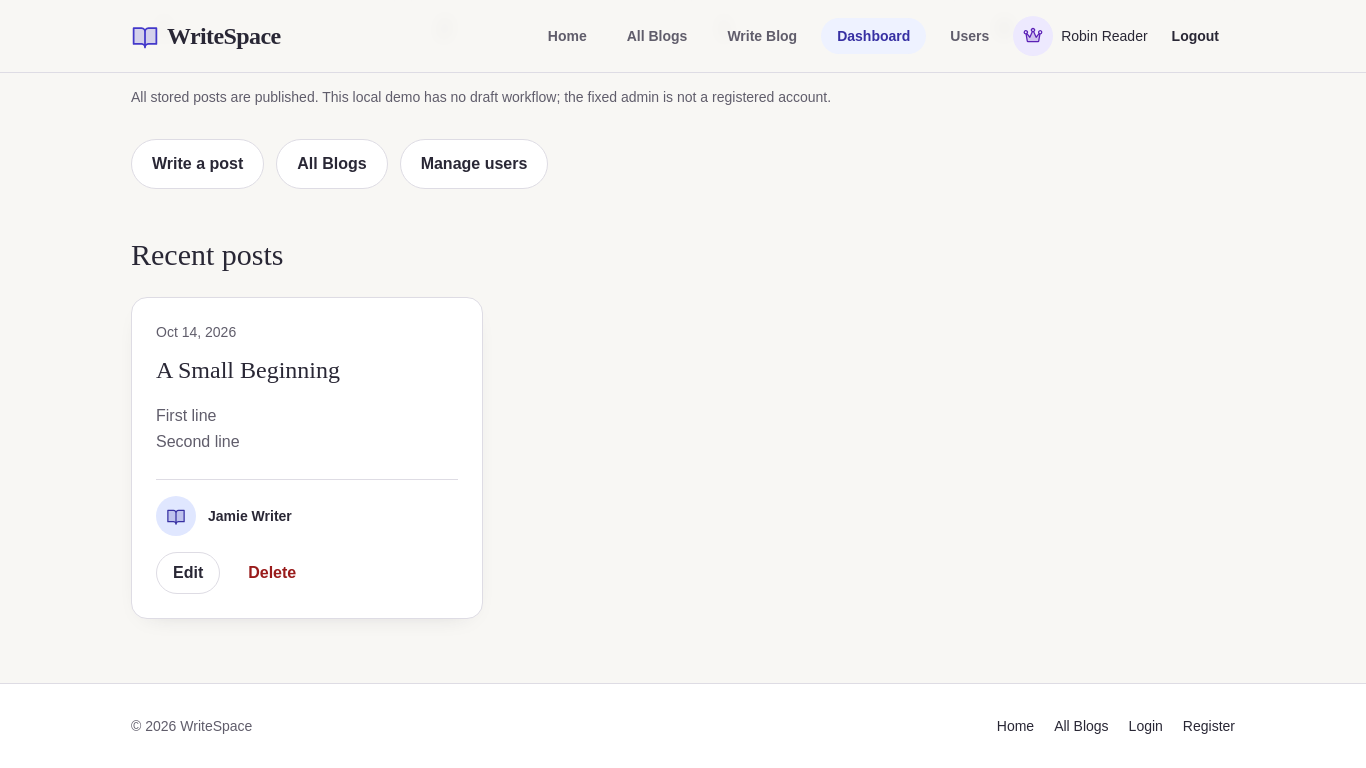
it: dashboard deletion and admin boundaries via App › denies a fresh unreadable registered admin identity without discarding the post snapshot
This screenshot has width=1366, height=768.
(page scrolled)
Click the button "Delete": (272, 573) [232,552,312,594]
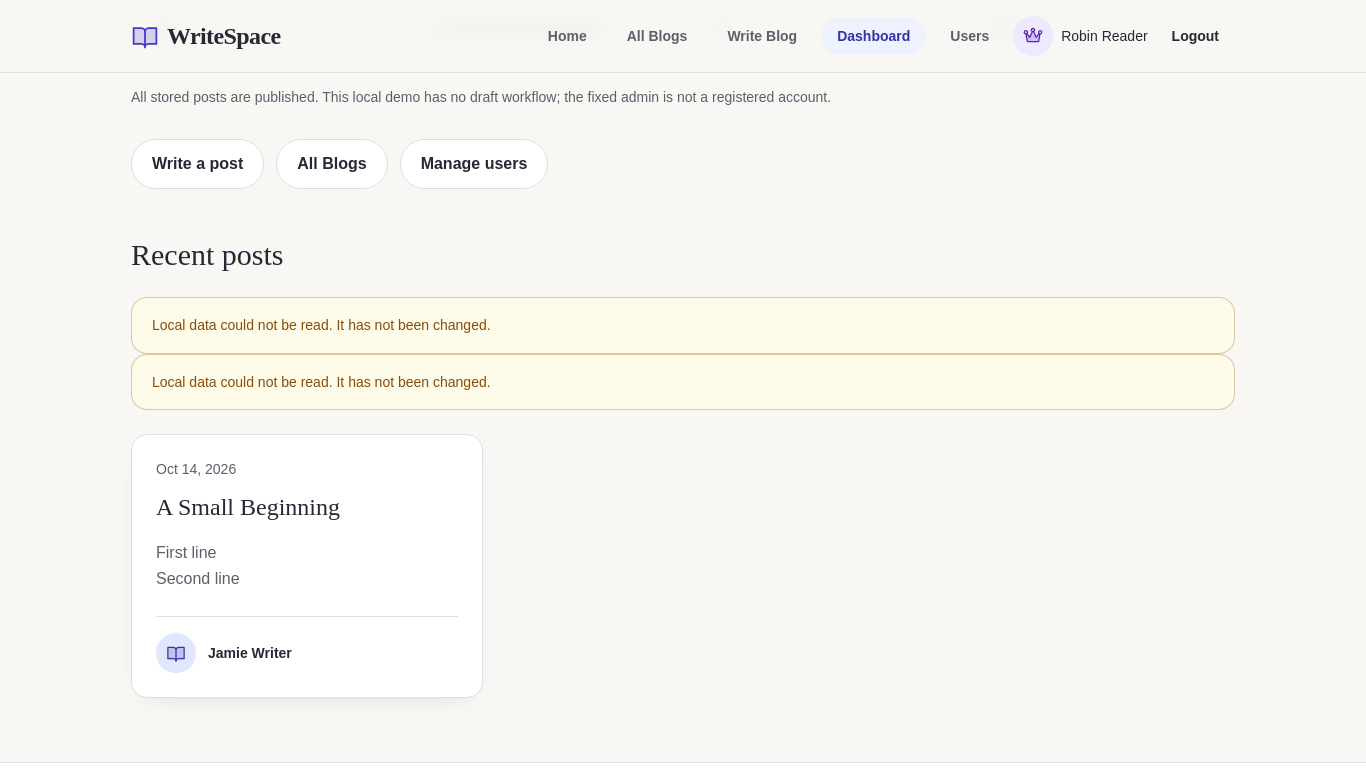
expect the element that starts with "Oct 14, 2026" is shown: met, box [131,434,483,698]
expect the 1st text "Local data could not be read. It has not been changed." is shown: met, box [131,297,1235,354]
expect the button "Delete" is gone: met
